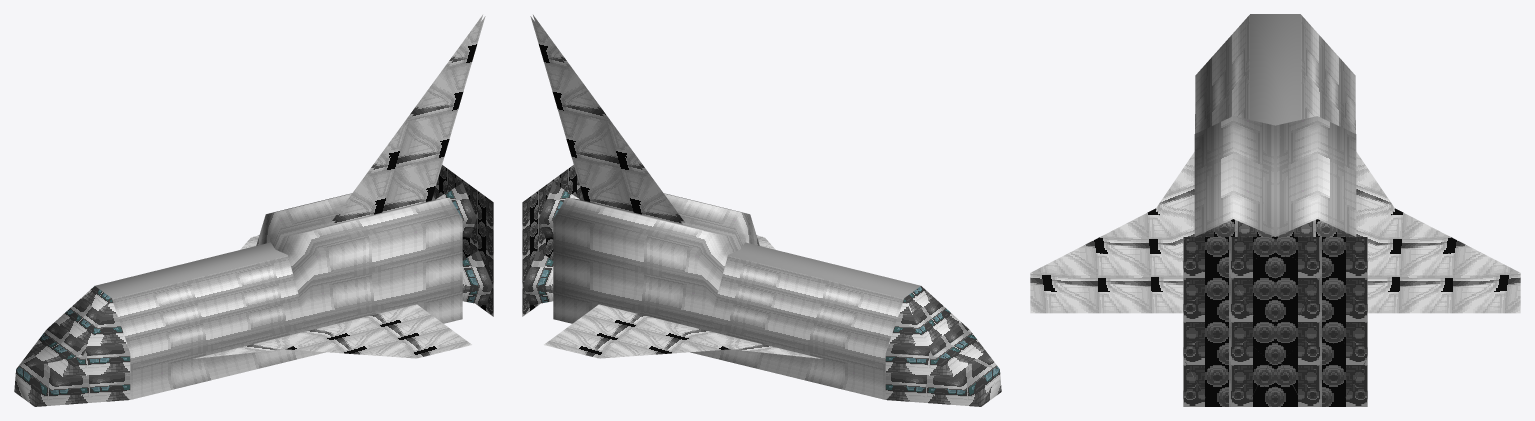
Rendered from 3281IMIG05_07.gltf.
3 renders of one model, left to right at view 1: azimuth 30°, elevation 25°; view 2: azimuth 150°, elevation 25°; view 3: azimuth 270°, elevation 25°, orthographic. The views are drawn at different scales.
Visible parts, largest first — view 1: 3281IMIG05_07; view 2: 3281IMIG05_07; view 3: 3281IMIG05_07.
Boxes of the visible parts, x1=… form: 3281IMIG05_07: x1=14, y1=15, x2=493, y2=406; 3281IMIG05_07: x1=522, y1=15, x2=1001, y2=406; 3281IMIG05_07: x1=1030, y1=14, x2=1520, y2=406.
Size of the model in its own units: 1.55 by 0.8655 by 0.9475.
Materials: 4 (4 with a texture image).
